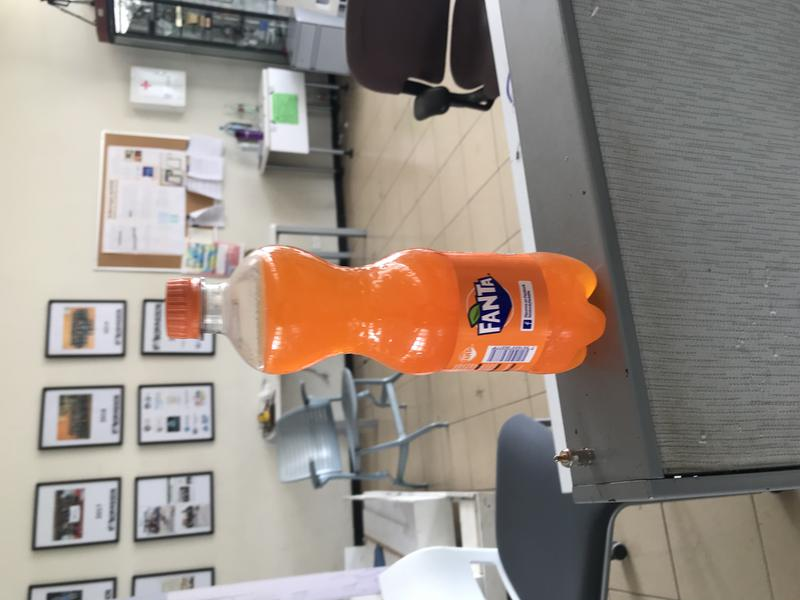fanta: (165, 245, 608, 376)
